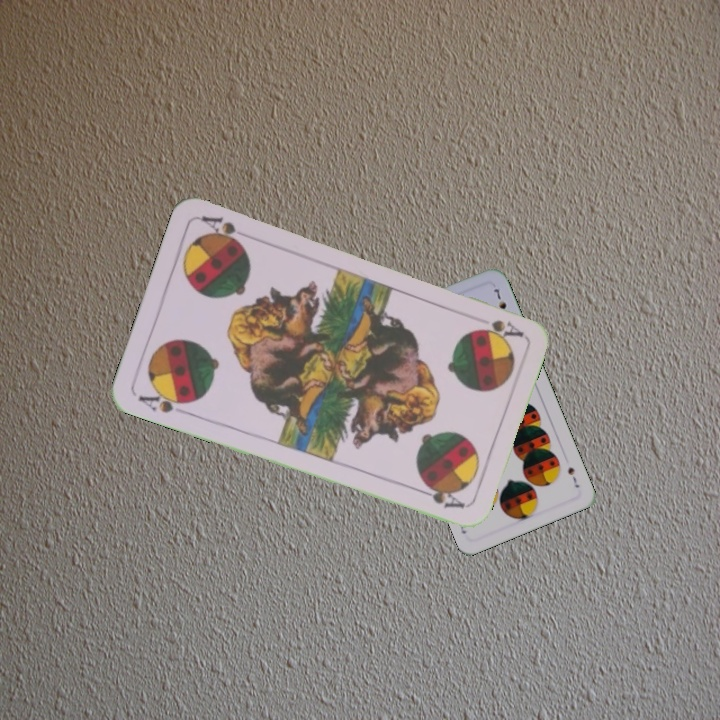S7: (564, 463, 582, 490)
SA: (134, 385, 194, 417), (476, 315, 526, 340)
